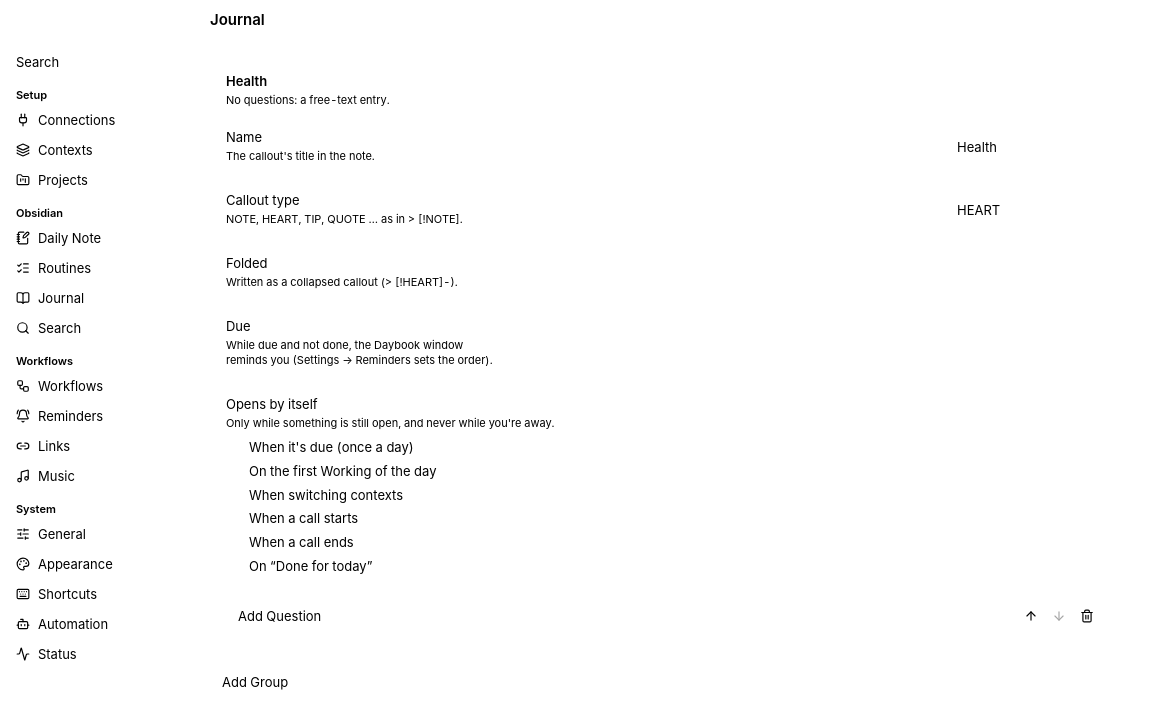
JournalPage › list actions › appends a New group without questions or due time
(page scrolled)
Step 1. Click the button "Add Group" → (255, 682), box [210,668,300,696]
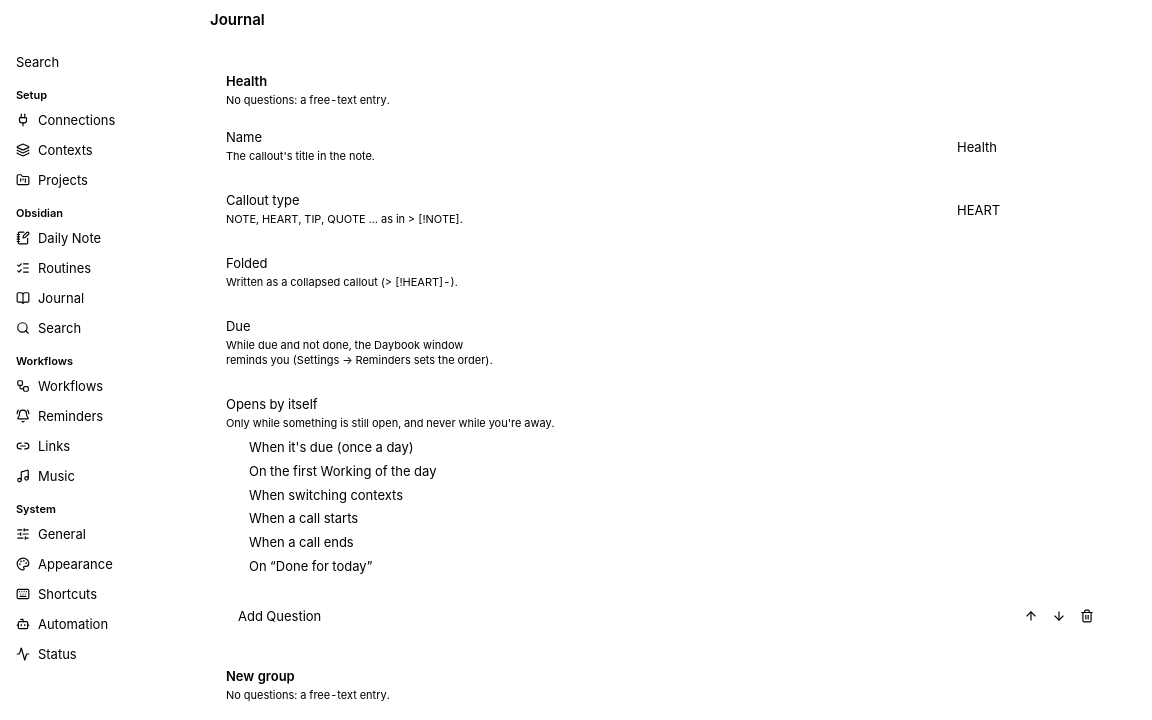
Now the heading "New group" is shown, box [226,668,295,684]
